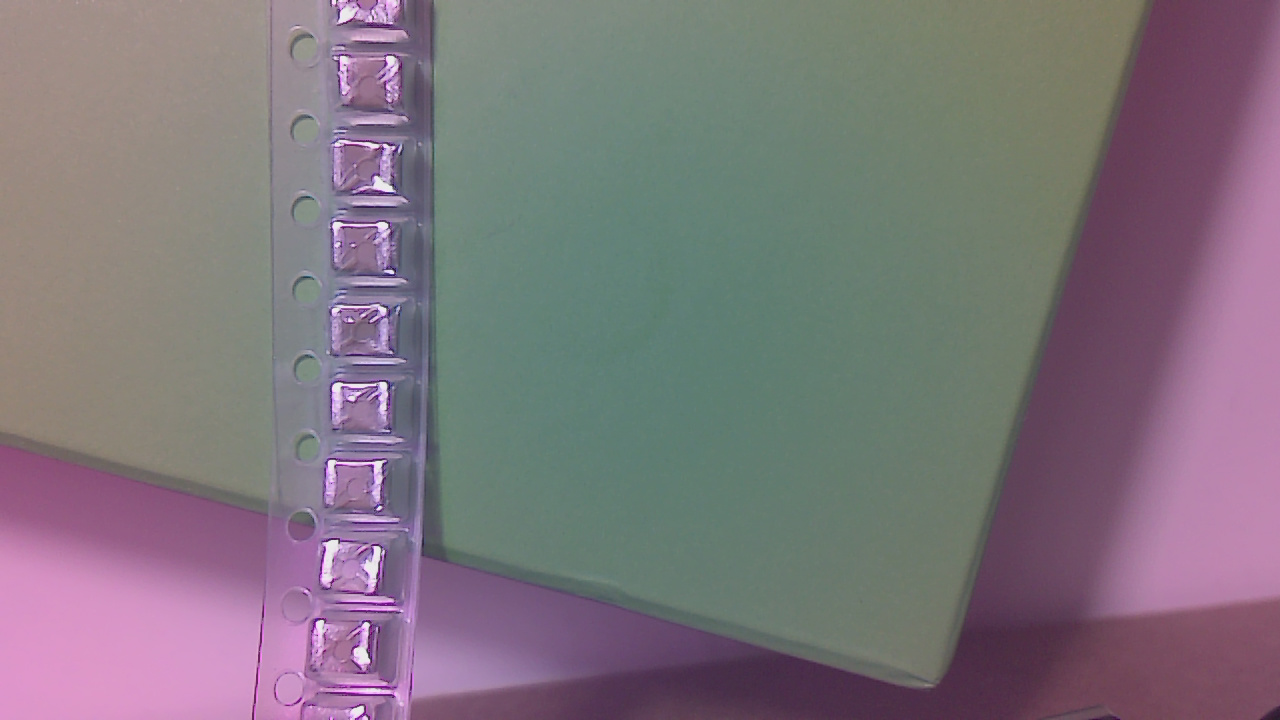Condensator: (337, 222, 408, 285), (327, 462, 399, 521), (338, 306, 407, 366), (340, 56, 407, 115), (315, 624, 385, 680), (332, 146, 407, 197), (336, 387, 403, 438), (329, 545, 391, 597)
